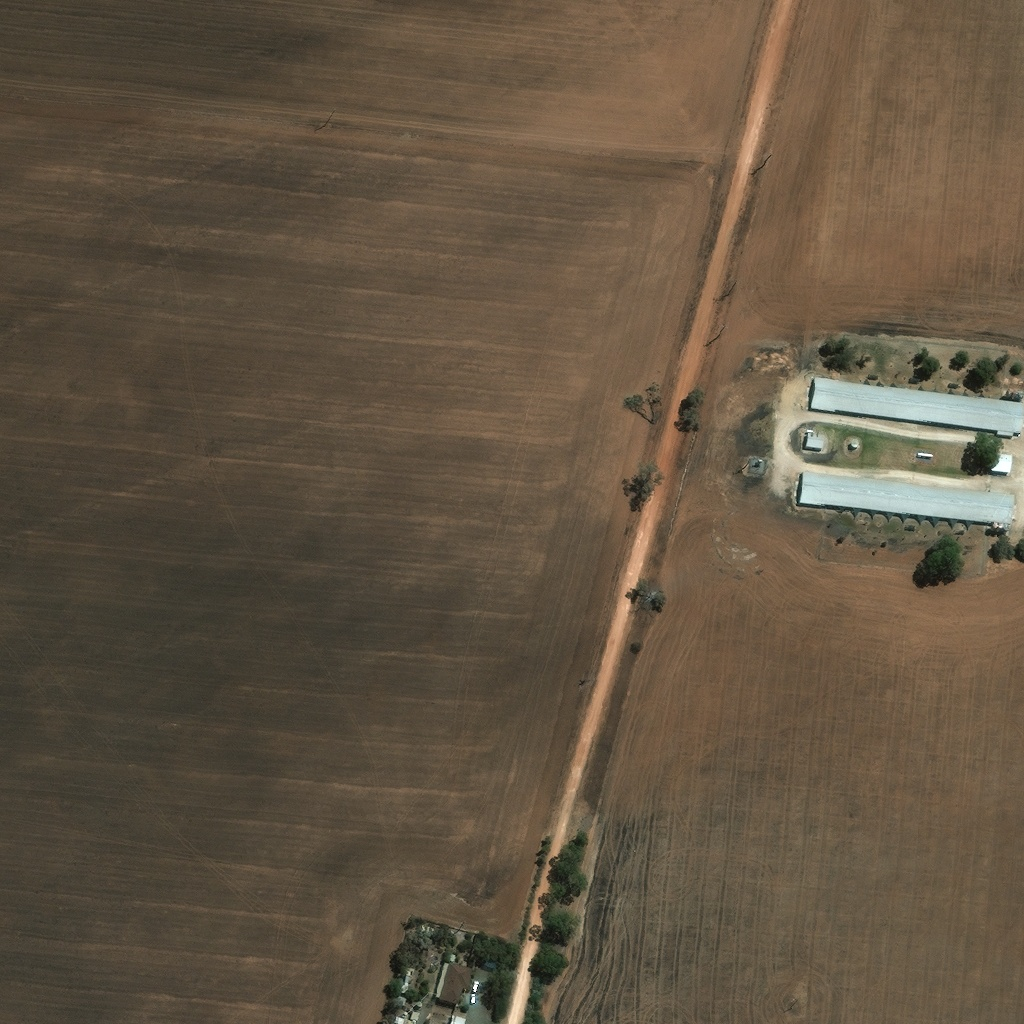0 no-damage: (809, 373, 1023, 433), (798, 469, 1016, 522), (433, 958, 476, 1001), (989, 448, 1015, 471), (804, 427, 827, 447), (449, 1011, 468, 1023), (413, 1006, 422, 1018), (850, 438, 859, 447), (919, 448, 935, 453)
1 minor-damage: (869, 370, 879, 375), (910, 374, 920, 378), (950, 379, 960, 383)
3 destroyed: (956, 523, 966, 529), (907, 520, 917, 525), (858, 515, 869, 519)
4 un-classified: (390, 1012, 418, 1023), (402, 978, 415, 989), (405, 966, 414, 979), (398, 991, 408, 1002), (405, 1007, 412, 1014), (419, 998, 425, 1004)
